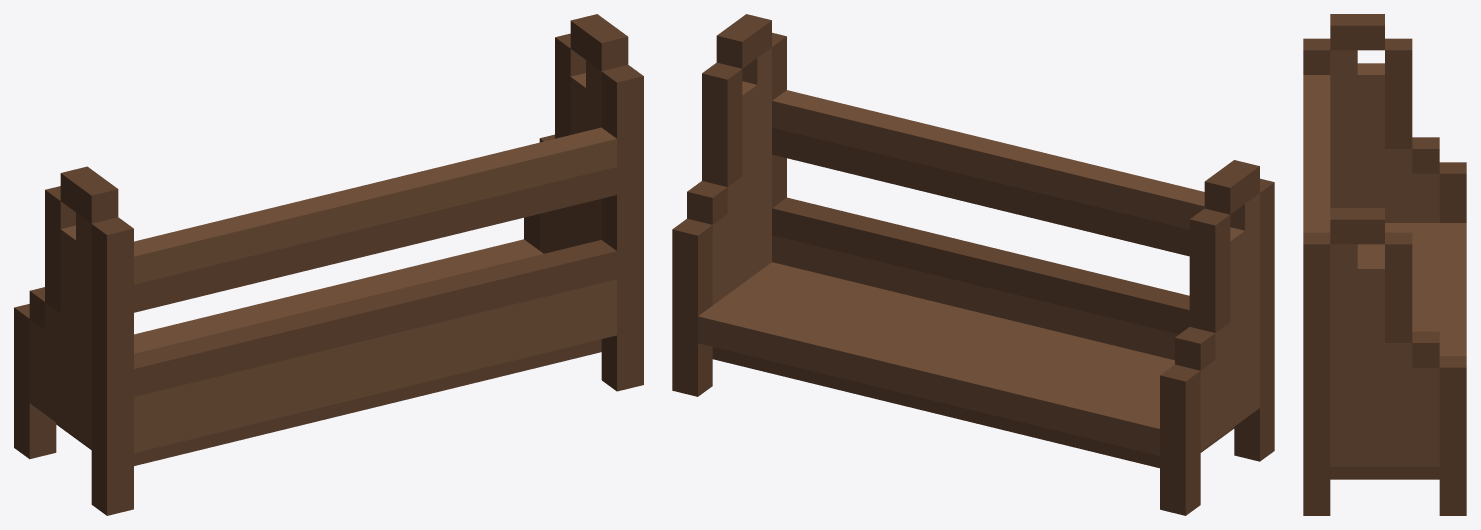
File: church-65-ch_bench.obj
3 views of the same model, side by side, from view 1: azimuth 30°, elevation 25°; view 2: azimuth 150°, elevation 25°; view 3: azimuth 270°, elevation 25° (orthographic). The views are drawn at different scales.
Parts seen in each view (by area): view 1: ch_bench; view 2: ch_bench; view 3: ch_bench.
Part boxes in pixels (box(x1,y1,x2,y2)): ch_bench: box(14, 14, 643, 515); ch_bench: box(672, 14, 1274, 515); ch_bench: box(1303, 14, 1466, 515).
Size of the model in its own units: 2 by 1.2 by 0.6.
Materials: 1 (1 with a texture image).
